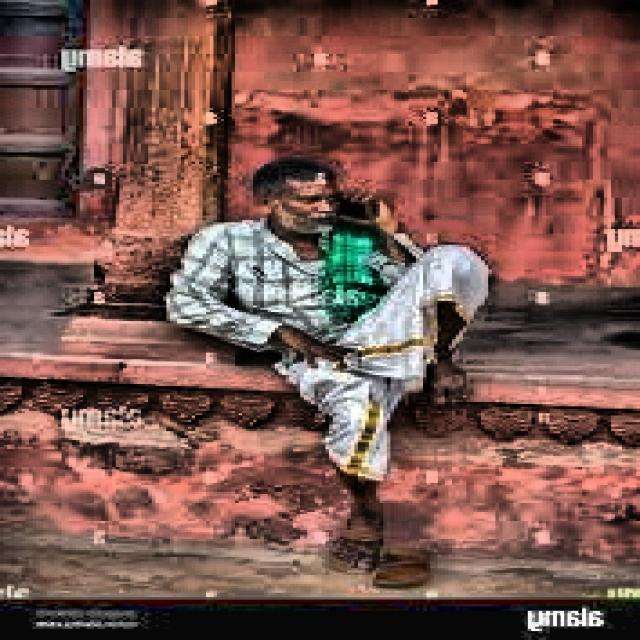Human: (182, 139, 508, 566)
